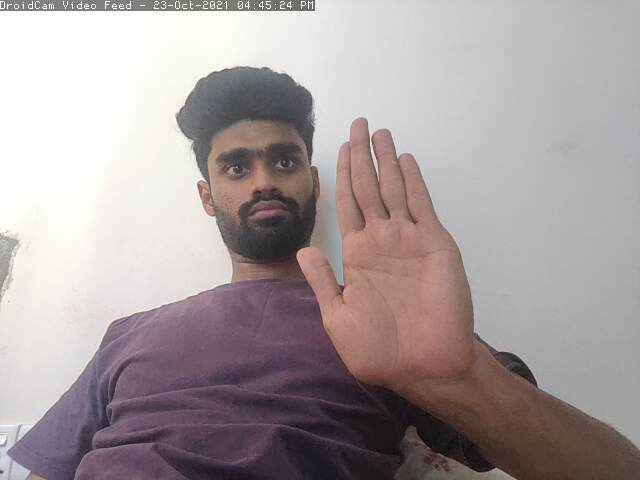Stop: (286, 117, 511, 342)
